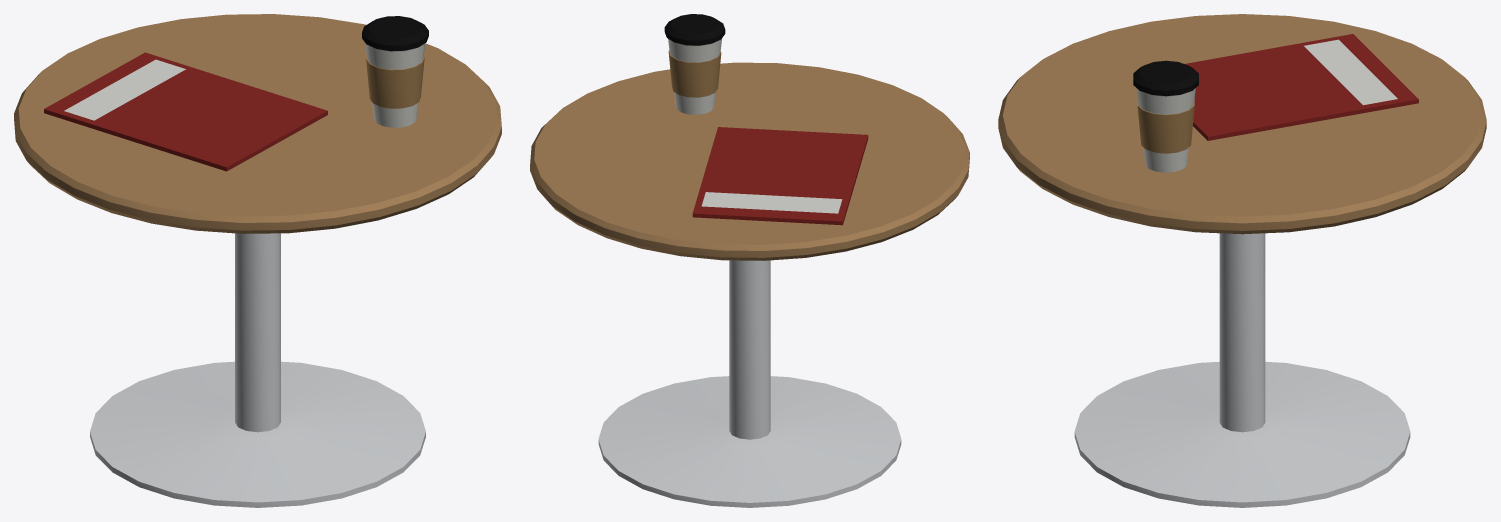
The model's file is lounge_table.glb.
3 views of the same model, side by side, from view 1: azimuth 30°, elevation 25°; view 2: azimuth 150°, elevation 25°; view 3: azimuth 270°, elevation 25° (orthographic). The views are drawn at different scales.
Parts seen in each view (by area): view 1: ltisch_2, ltisch_0, ltisch_3, ltisch_4, ltisch_5, ltisch_6; view 2: ltisch_2, ltisch_0, ltisch_3, ltisch_4, ltisch_5, ltisch_6; view 3: ltisch_2, ltisch_0, ltisch_3, ltisch_4, ltisch_5, ltisch_6.
Boxes of the visible parts, x1=… form: ltisch_2: x1=14, y1=14, x2=501, y2=233; ltisch_0: x1=90, y1=233, x2=425, y2=507; ltisch_3: x1=44, y1=52, x2=327, y2=171; ltisch_4: x1=64, y1=43, x2=425, y2=127; ltisch_5: x1=366, y1=56, x2=424, y2=108; ltisch_6: x1=362, y1=16, x2=428, y2=51; ltisch_2: x1=530, y1=62, x2=969, y2=260; ltisch_0: x1=598, y1=260, x2=901, y2=507; ltisch_3: x1=692, y1=127, x2=868, y2=225; ltisch_4: x1=668, y1=39, x2=842, y2=213; ltisch_5: x1=668, y1=50, x2=721, y2=97; ltisch_6: x1=664, y1=14, x2=725, y2=45; ltisch_2: x1=998, y1=14, x2=1486, y2=234; ltisch_0: x1=1074, y1=233, x2=1410, y2=507; ltisch_3: x1=1185, y1=34, x2=1418, y2=140; ltisch_4: x1=1136, y1=39, x2=1397, y2=172; ltisch_5: x1=1137, y1=100, x2=1194, y2=153; ltisch_6: x1=1133, y1=60, x2=1198, y2=96.
Size of the model in its own units: 0.64 by 0.599 by 0.64.
